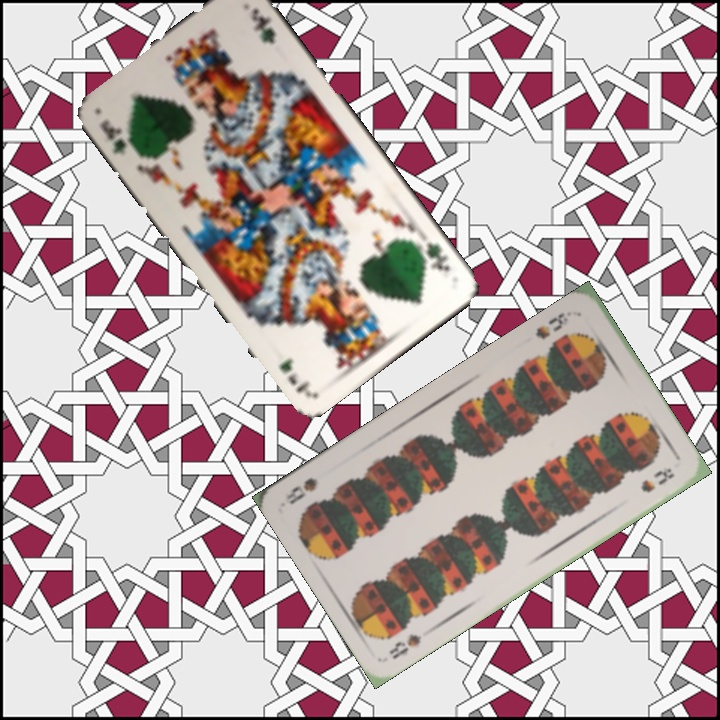GK: (418, 232, 453, 274), (96, 115, 129, 157)
S8: (531, 307, 580, 343), (385, 629, 424, 662)
